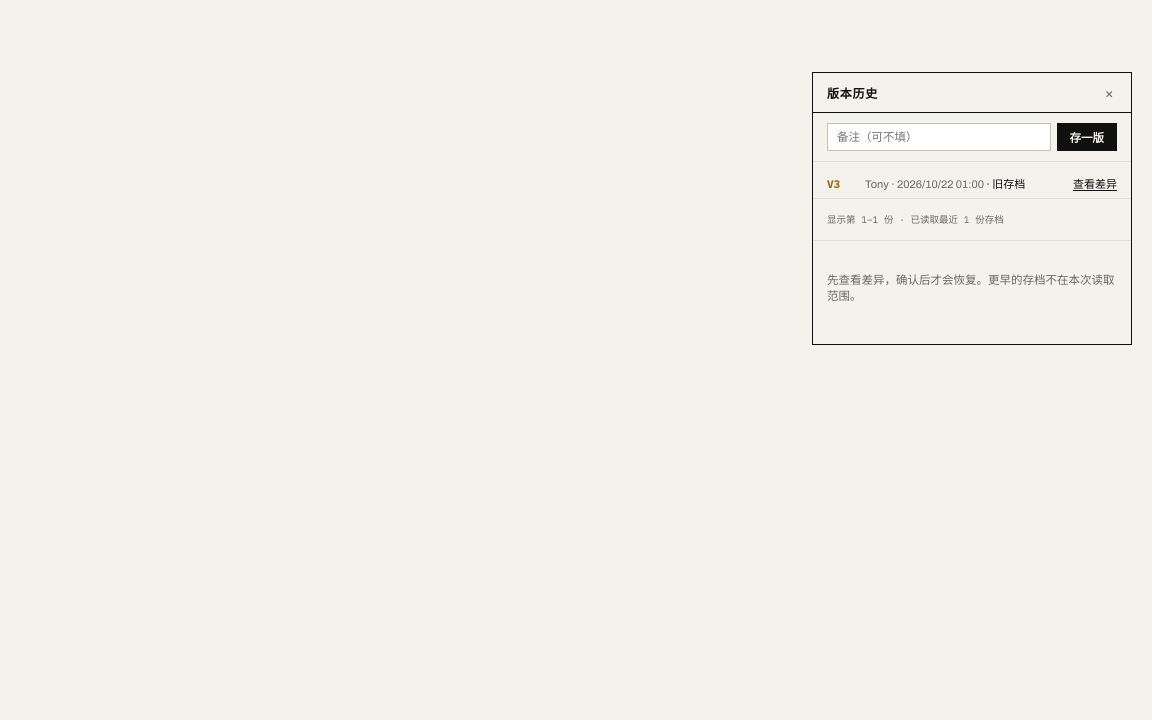
Test: 版本预览与恢复 › allows cancel without changing the flow
The width and height of the screenshot is (1152, 720).
Click the button "查看差异".
click(1095, 183)  # box [1073, 175, 1117, 191]
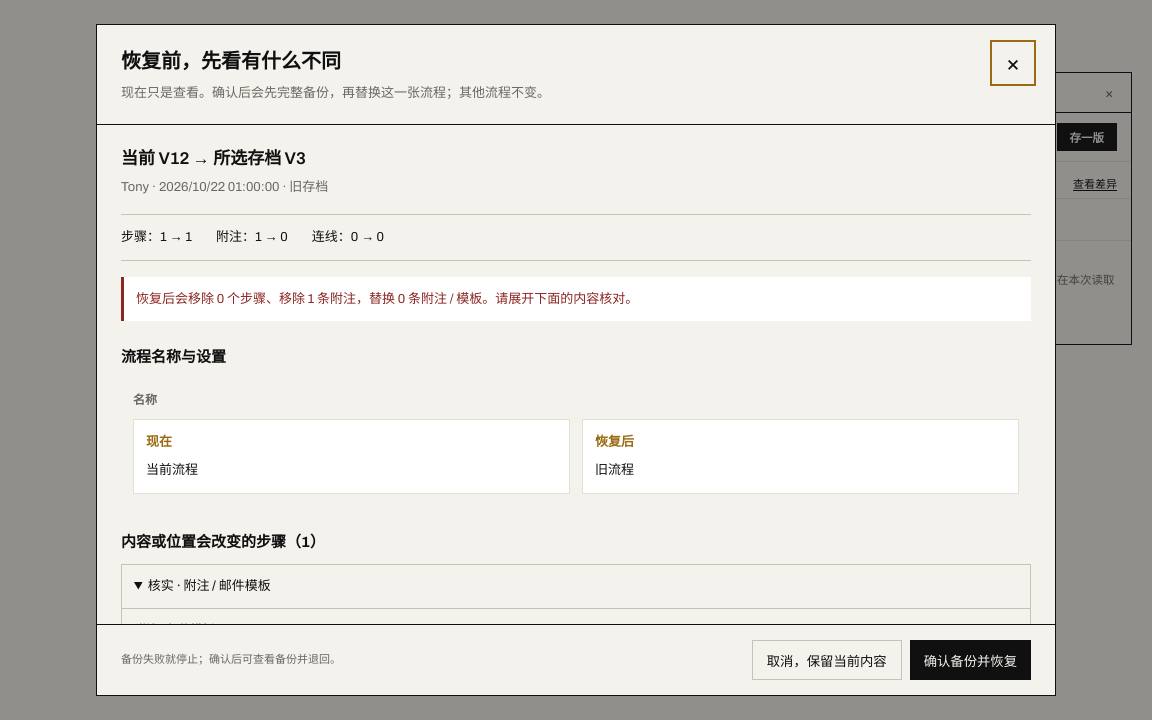
Click the button "取消，保留当前内容".
click(827, 660)  # box [752, 640, 902, 680]
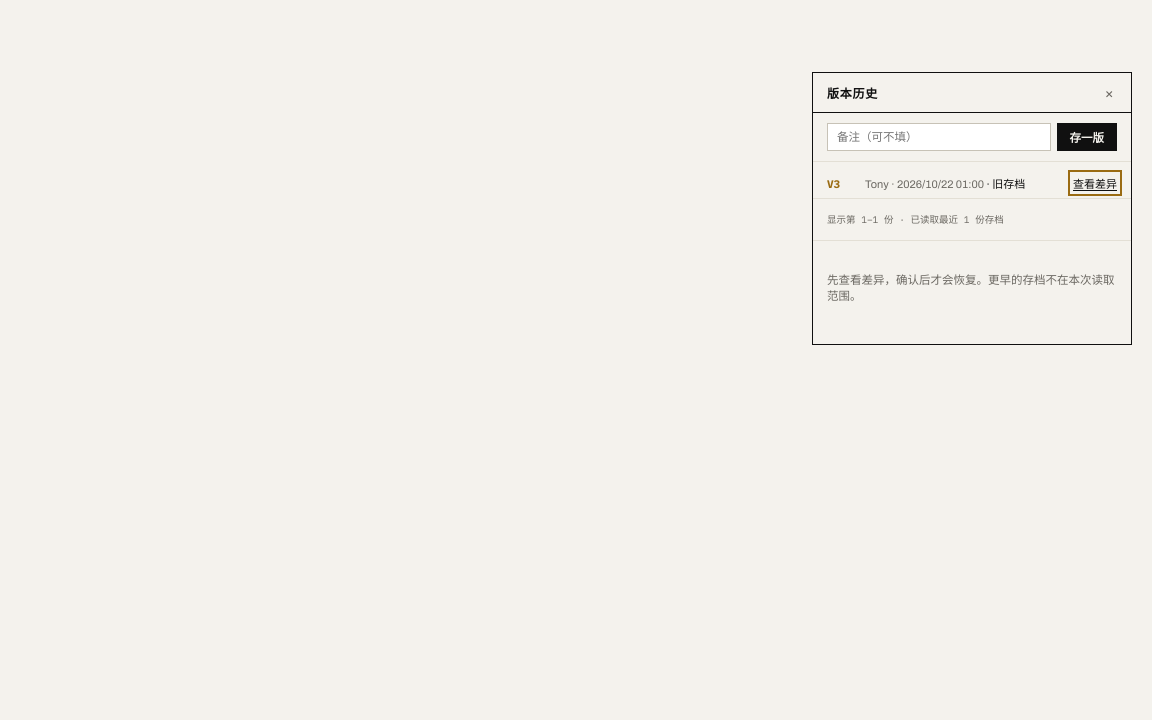
expect the dialog is gone: met
